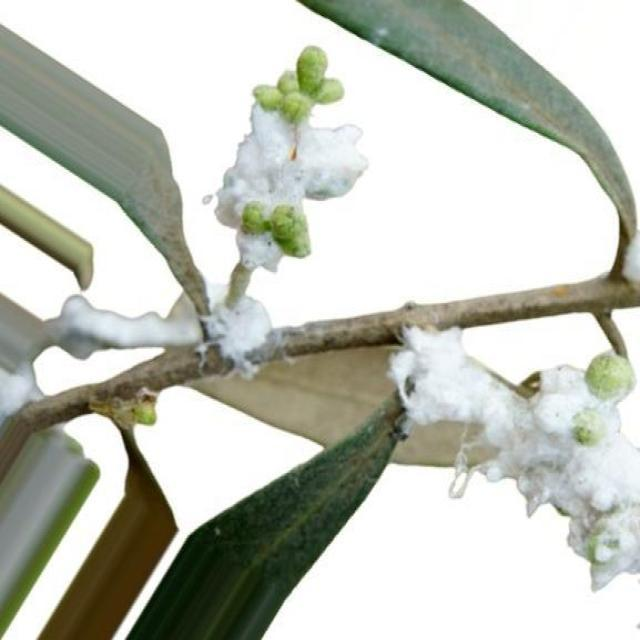Psyllid: (389, 327, 639, 575), (215, 100, 367, 270), (57, 294, 284, 376)
